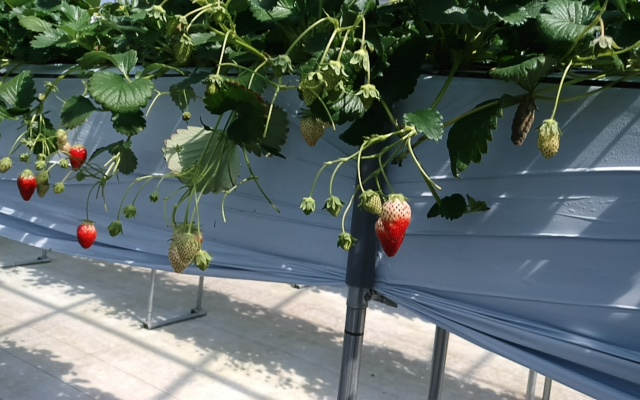GreenStrawberry: (296, 112, 329, 149), (536, 120, 561, 164), (165, 242, 191, 275), (300, 73, 321, 104), (360, 193, 382, 218), (180, 235, 200, 260), (36, 174, 52, 199)
MatureStrawberry: (379, 193, 412, 242), (374, 221, 401, 259), (12, 168, 38, 204), (73, 218, 98, 251), (67, 142, 88, 174)
